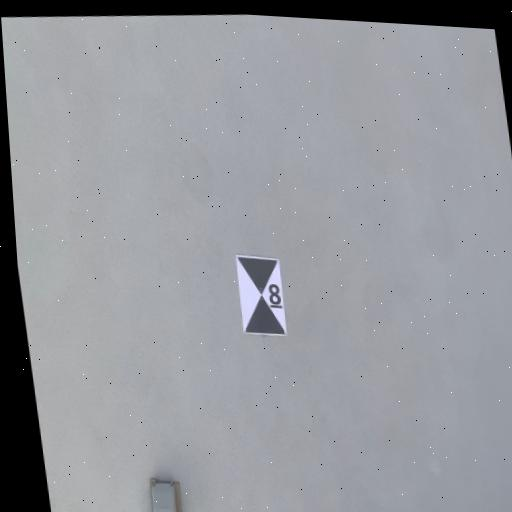target8: (236, 255, 288, 335)
